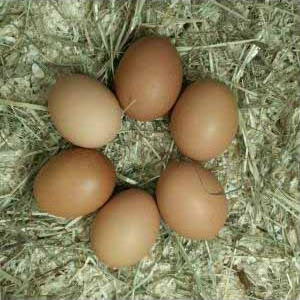egg: (31, 150, 117, 218), (115, 36, 182, 121), (156, 161, 228, 239), (89, 189, 159, 269), (170, 81, 238, 162), (48, 74, 121, 149)
